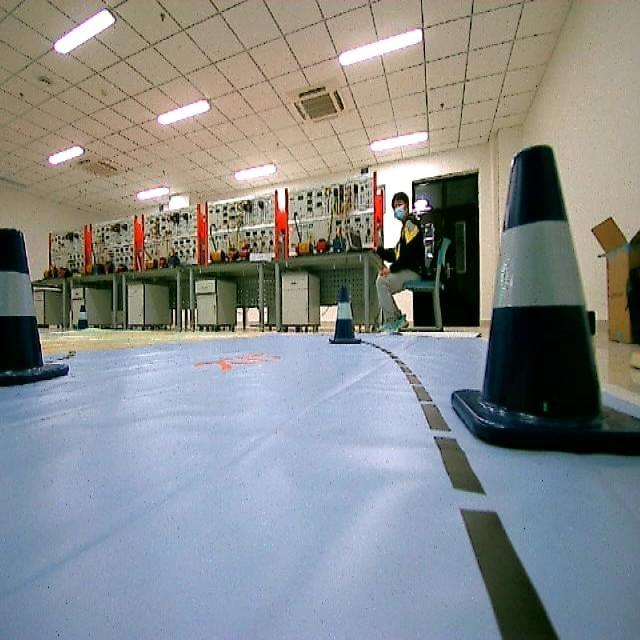obstacle: (473, 142, 634, 459), (0, 228, 70, 390), (326, 287, 359, 348)
